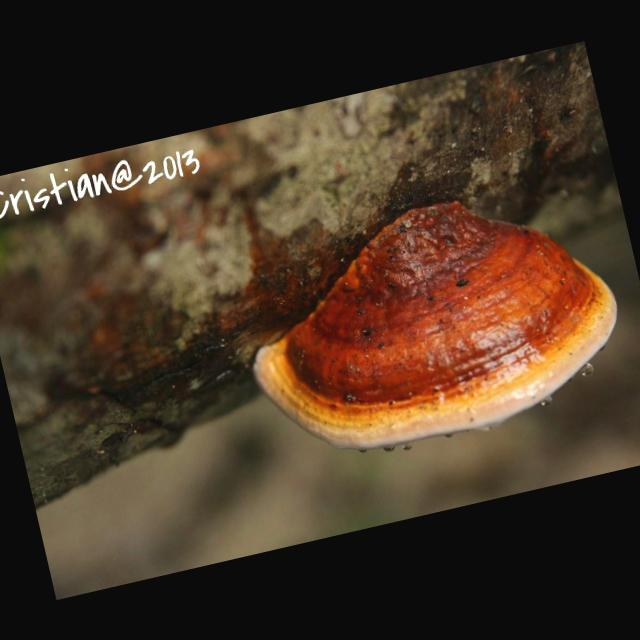ganoderma: (222, 161, 640, 484)
